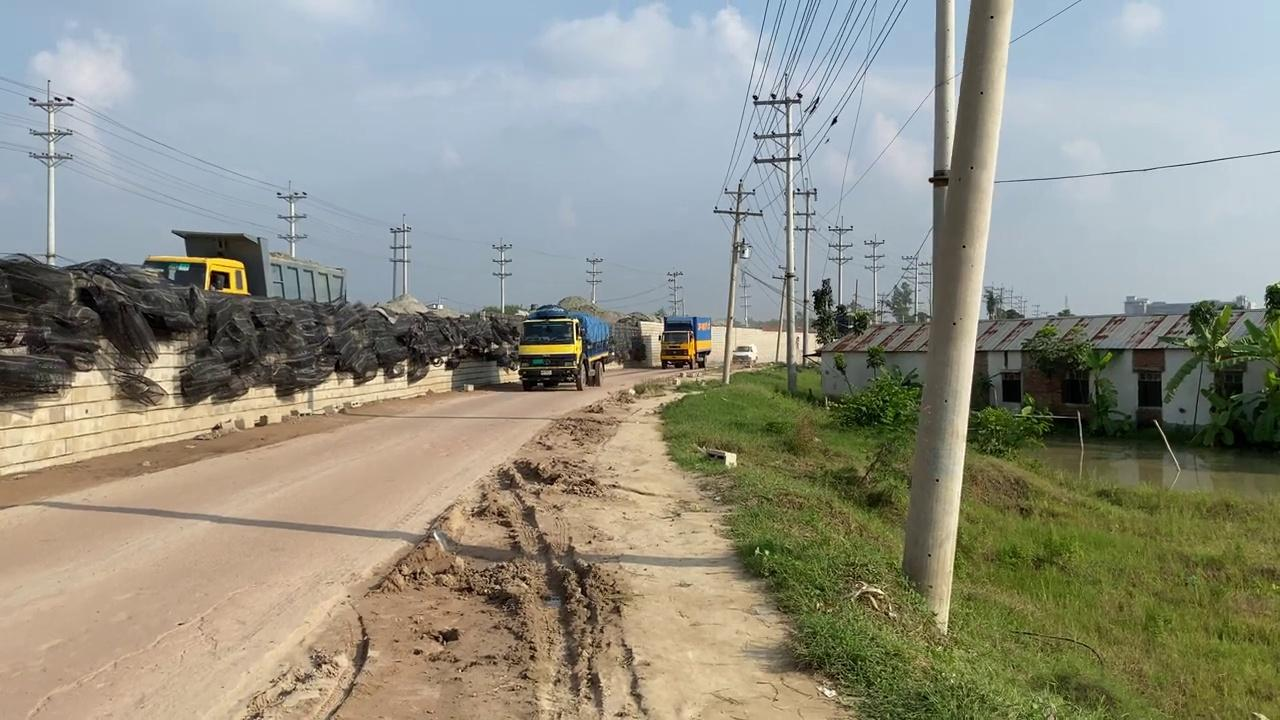Car: (732, 343, 758, 366)
Garbage: (0, 252, 523, 408)
Pole: (901, 0, 1015, 635), (713, 179, 763, 384)
Sidewalk: (1023, 423, 1278, 503)
Tree: (141, 229, 347, 304), (516, 304, 612, 391), (141, 255, 250, 295), (659, 315, 712, 369)
Upstairs: (0, 334, 512, 477)
